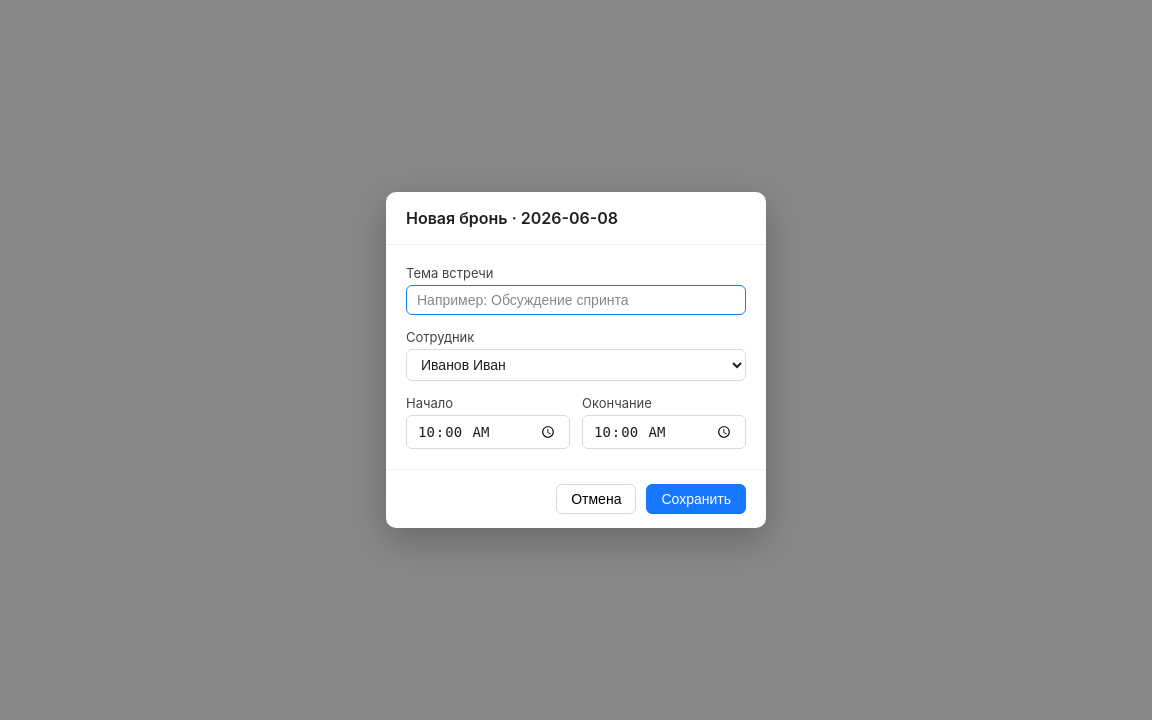
BookingModal › требует, чтобы окончание было позже начала
Type "Звонок" into the field with placeholder "Например: Обсуждение спринта". click: coordinates (576, 300)
box: 406,285 -> 746,315
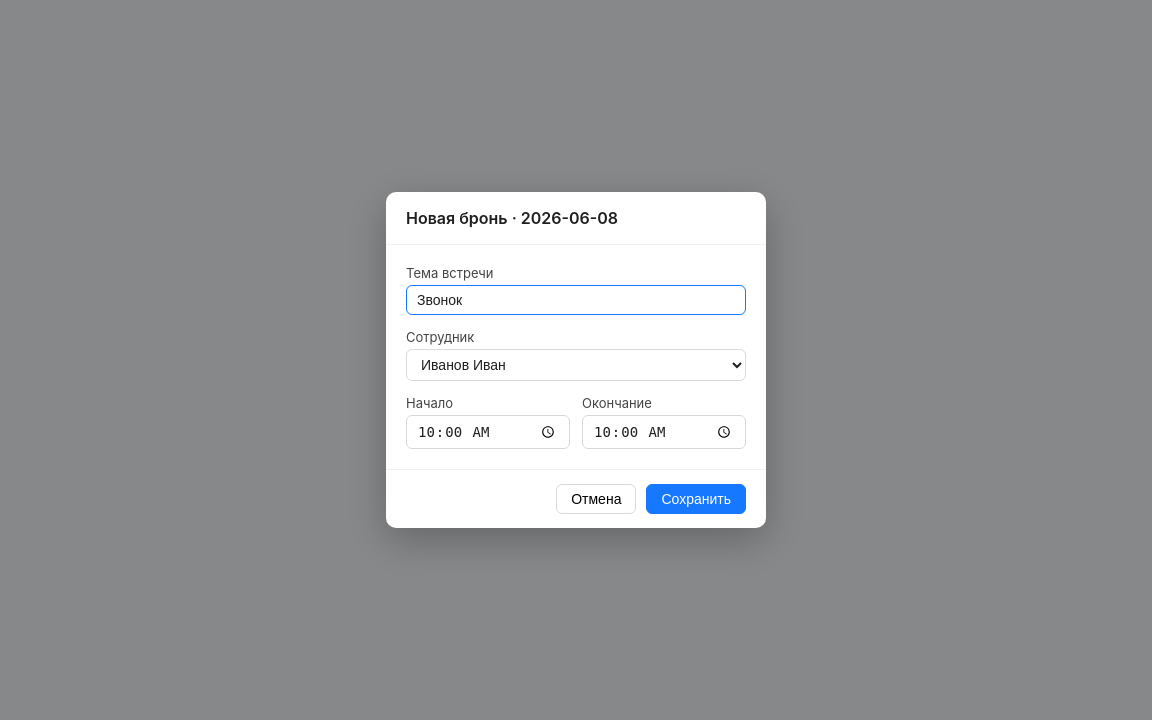
Click the button "Сохранить". click: coordinates (696, 499)
box: 646,484 -> 746,514
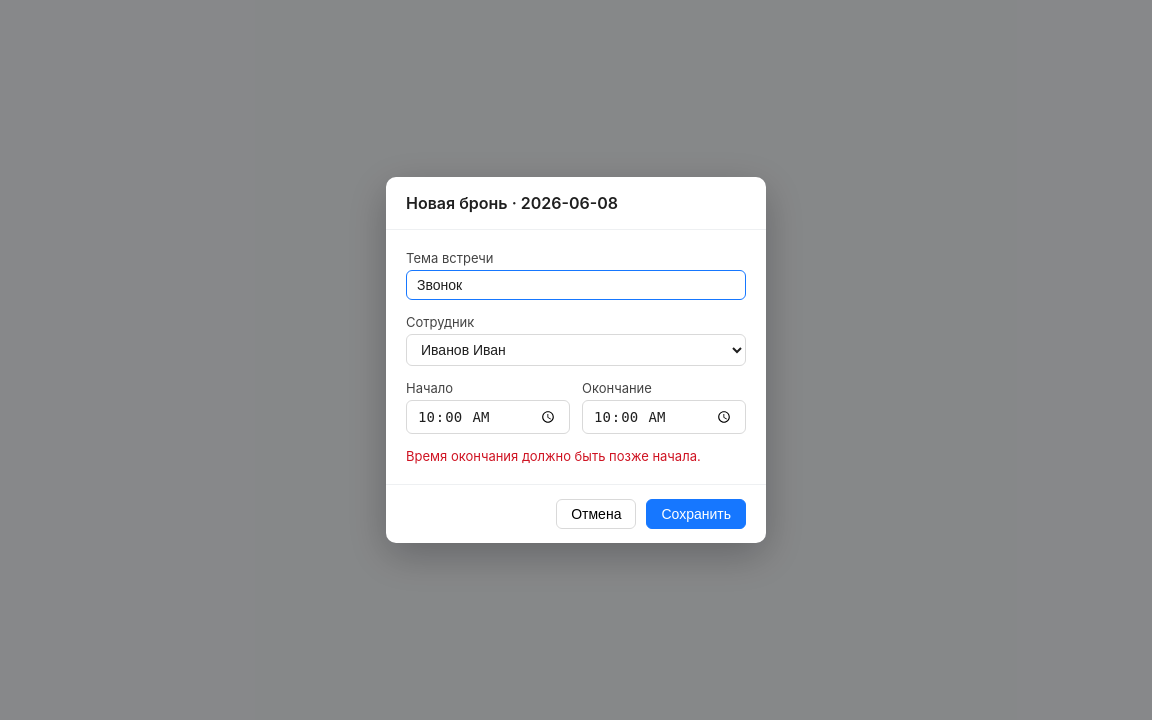
Expected: the text "Время окончания должно быть позже начала." is shown, 406,448 -> 746,464
